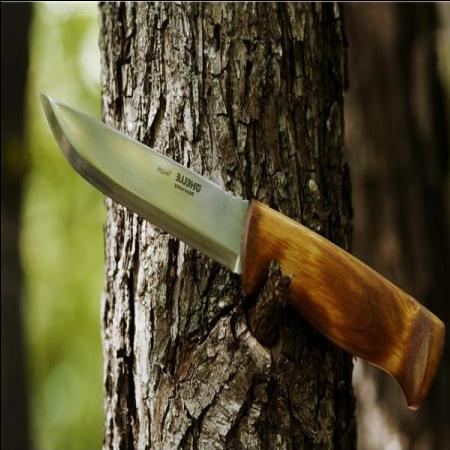long weapon: (34, 88, 266, 287)
